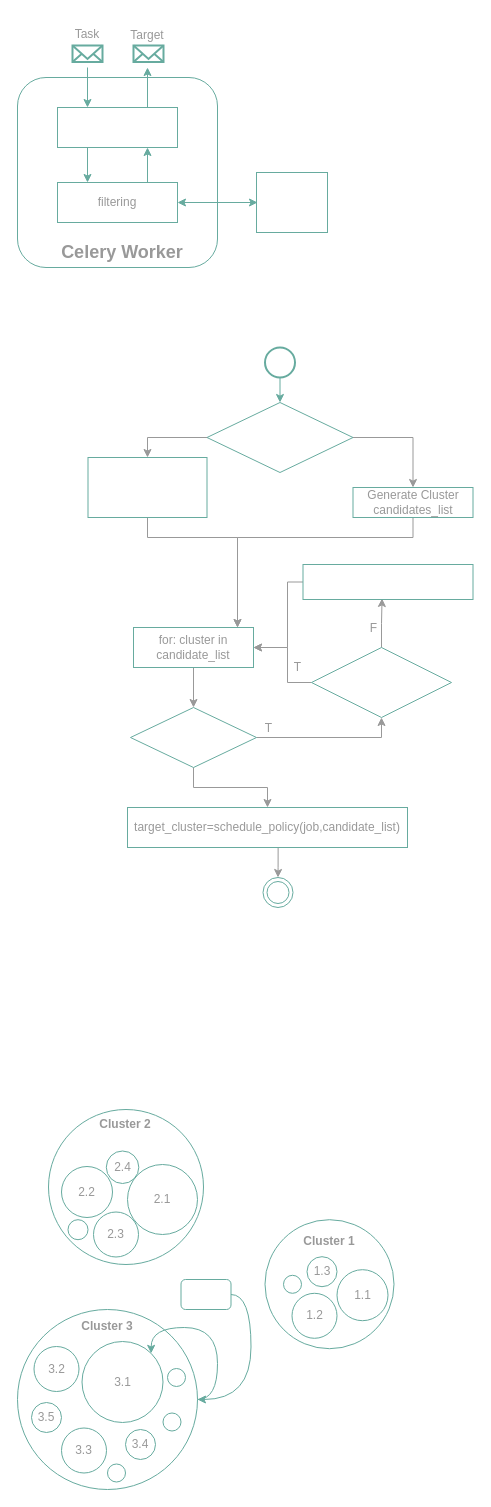
Some shapes in this 491 by 1507 pixel diagram are drawn without their labels. Here are the shapes that lost their labels. From the top down, the centre of each, then its label:
At point (117, 127): "scheduling".
At point (292, 202): "Resource Abstractor".
At point (279, 437): "Direct Cluster Mapping".
At point (147, 487): "Extract Cluster candidates_list from deployment descriptor".
At point (387, 582): "candidate_list.remove(cluster)".
At point (381, 682): "cluster.resources ≧ job.constraints".
At point (193, 737): "cluster != none".
At point (205, 1294): "Job".
